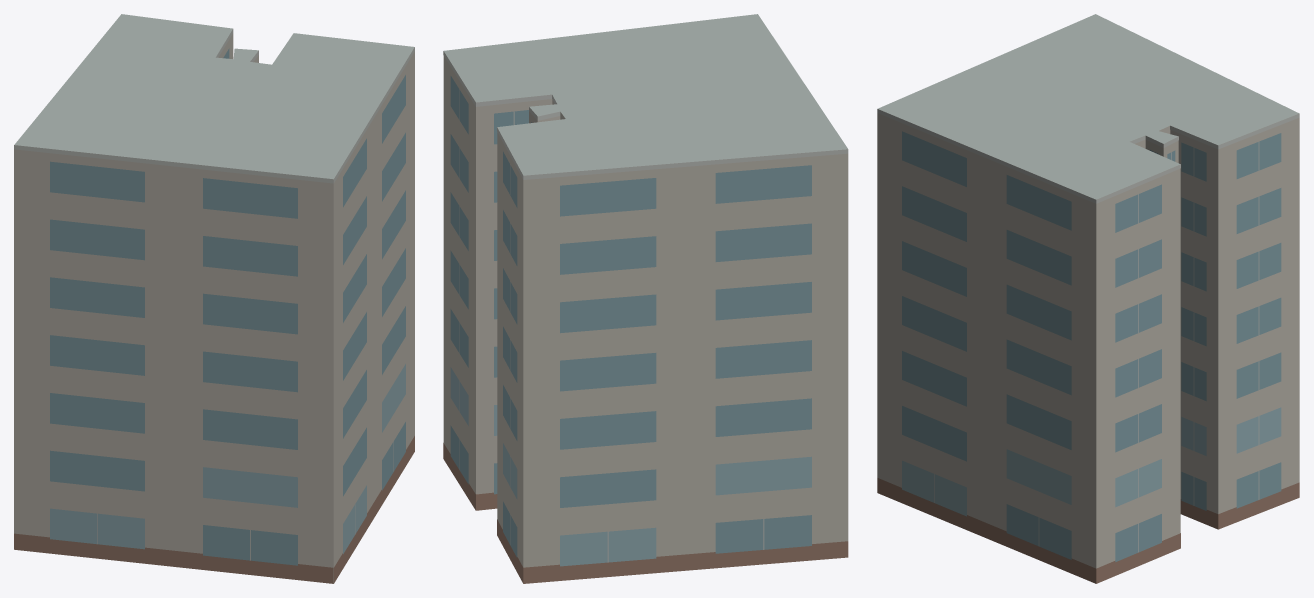
The model's file is survey-upis-32560835.glb.
The picture shows the model from 3 angles, left to right: view 1: azimuth 30°, elevation 25°; view 2: azimuth 150°, elevation 25°; view 3: azimuth 270°, elevation 25°; orthographic projection. The views are drawn at different scales.
Parts seen in each view (by area): view 1: survey-upis-32560835.tmp; view 2: survey-upis-32560835.tmp; view 3: survey-upis-32560835.tmp.
Part boxes in pixels (box(x1,y1,x2,y2)): survey-upis-32560835.tmp: box(14, 14, 414, 583); survey-upis-32560835.tmp: box(443, 14, 848, 583); survey-upis-32560835.tmp: box(877, 14, 1299, 583).
Size of the model in its own units: 23.65 by 22.8 by 22.72.
